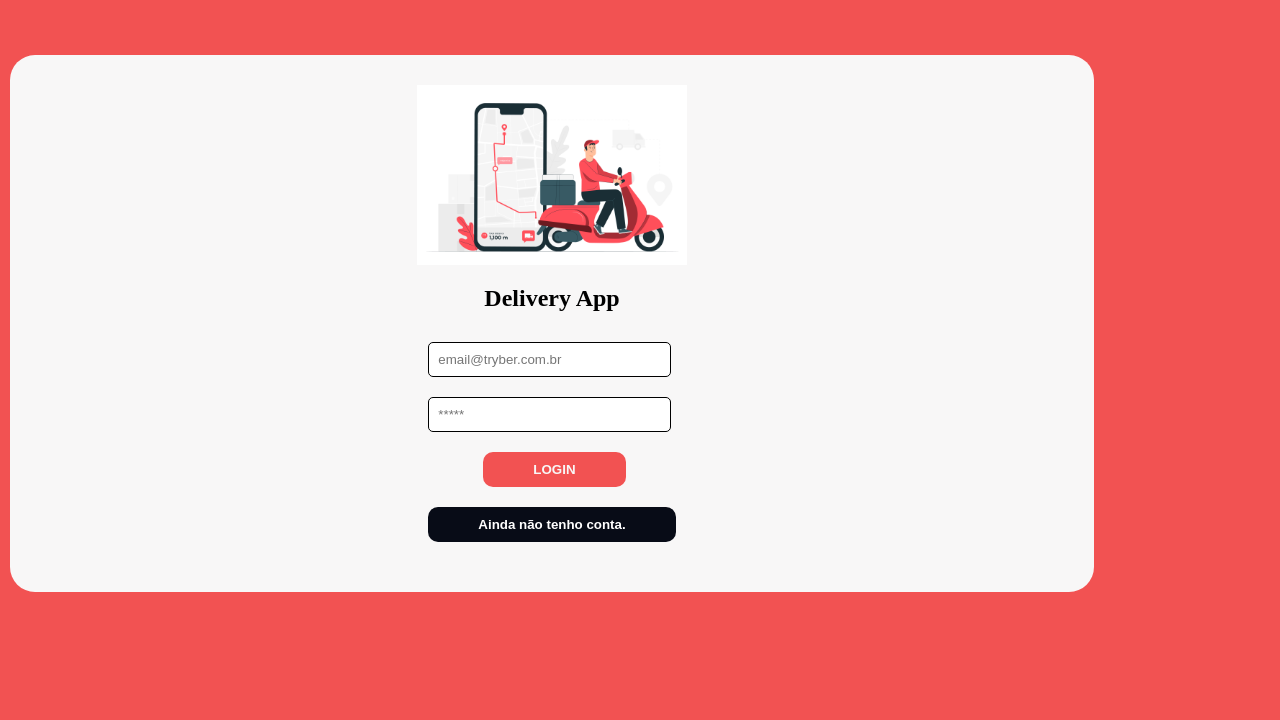
it: Testes da rota "LOGIN" › Verifica se é exibido um alerta ao efetuar um Login com um usuário não existente
Type "teste@mail.com" into the field with test id "common_login__input-email" at (550, 359), box [428, 342, 671, 377]
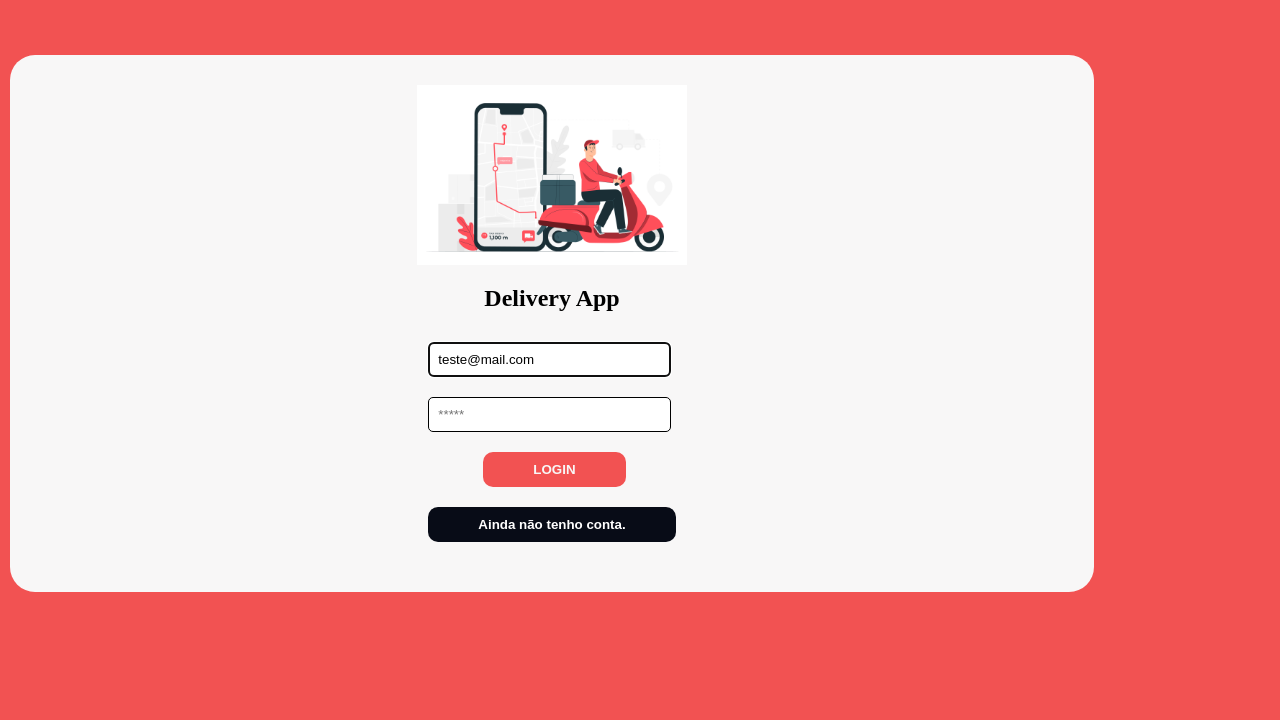
Type "1234567" into the password field with test id "common_login__input-password" at (550, 414), box [428, 397, 671, 432]
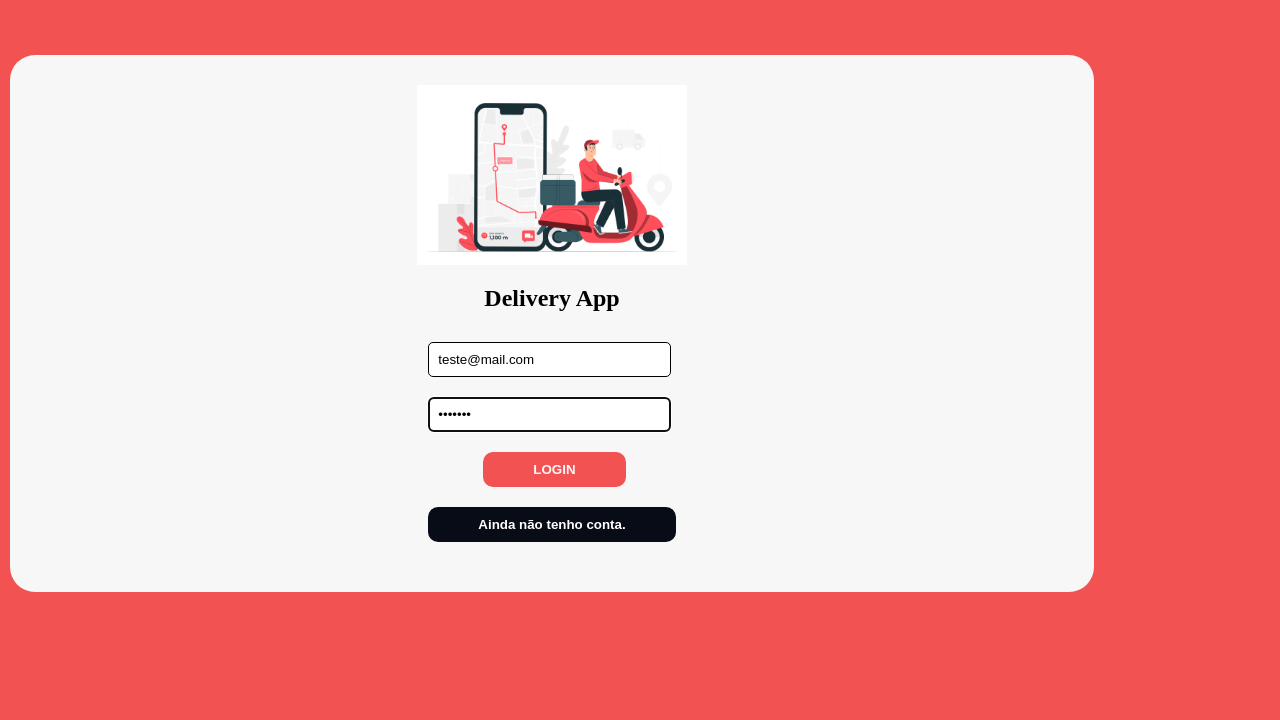
Click the button with test id "common_login__button-login" at (554, 469), box [483, 452, 626, 487]
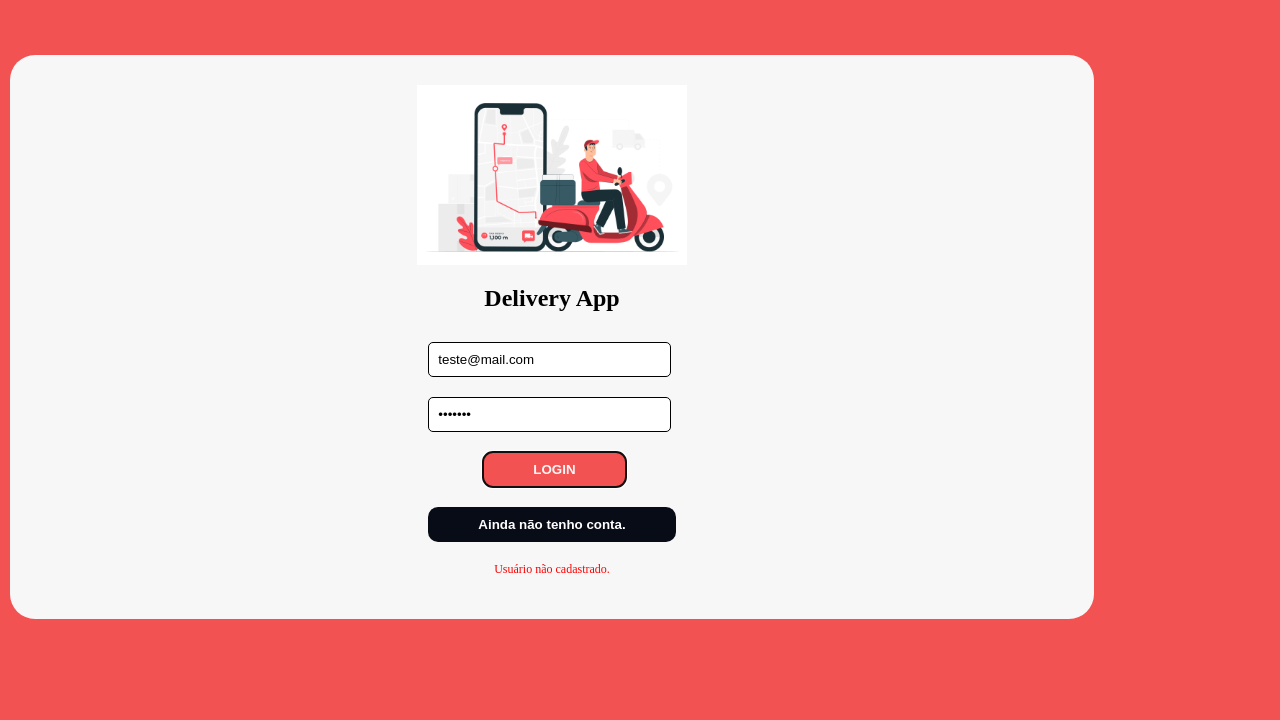
Check: the text "Usuário não cadastrado." is shown, box [494, 562, 610, 576]
